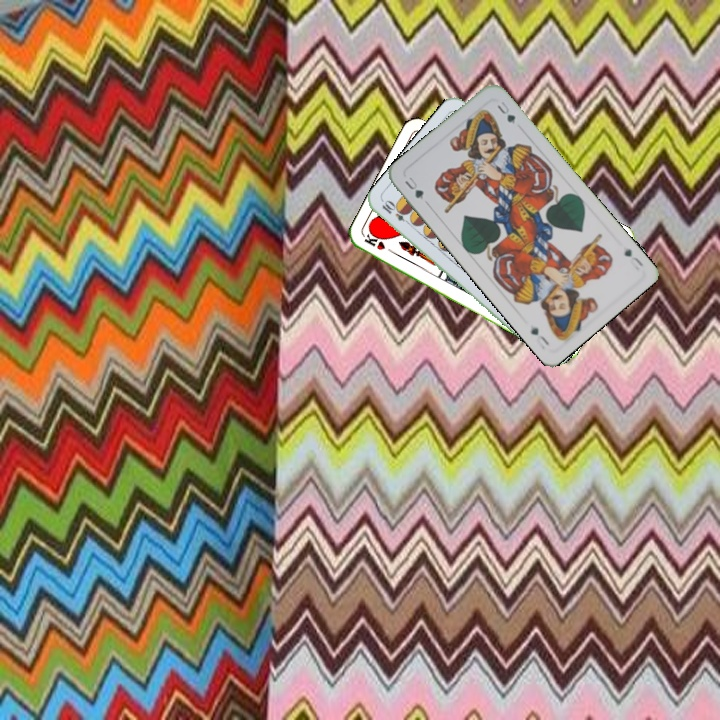E10: (378, 197, 414, 228)
GU: (400, 173, 426, 202), (620, 245, 646, 273)
HK: (360, 231, 399, 257)
